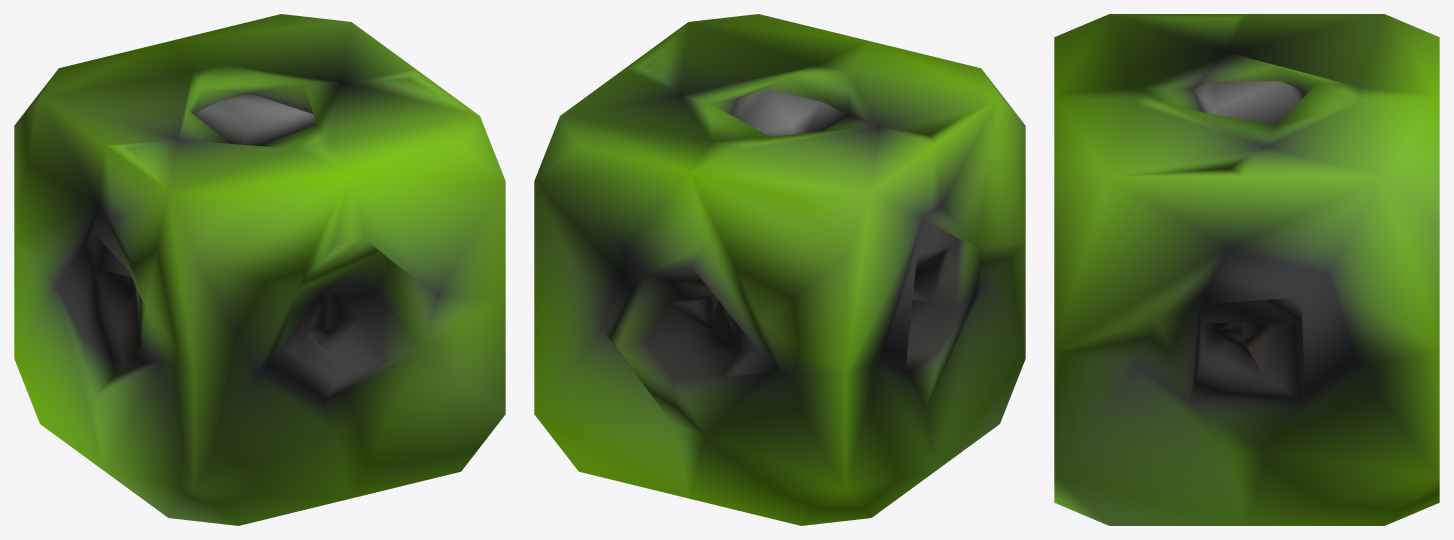
File: junction_box_lod5.glb
3 views of the same model, side by side, from view 1: azimuth 30°, elevation 25°; view 2: azimuth 150°, elevation 25°; view 3: azimuth 270°, elevation 25° (orthographic). The views are drawn at different scales.
Parts seen in each view (by area): view 1: junction_box; view 2: junction_box; view 3: junction_box.
Boxes of the visible parts, x1,y1,x2,y2 form: junction_box: (14,14,505,525); junction_box: (534,14,1025,525); junction_box: (1054,14,1439,525).
Size of the model in its own units: 2 by 2 by 2.
